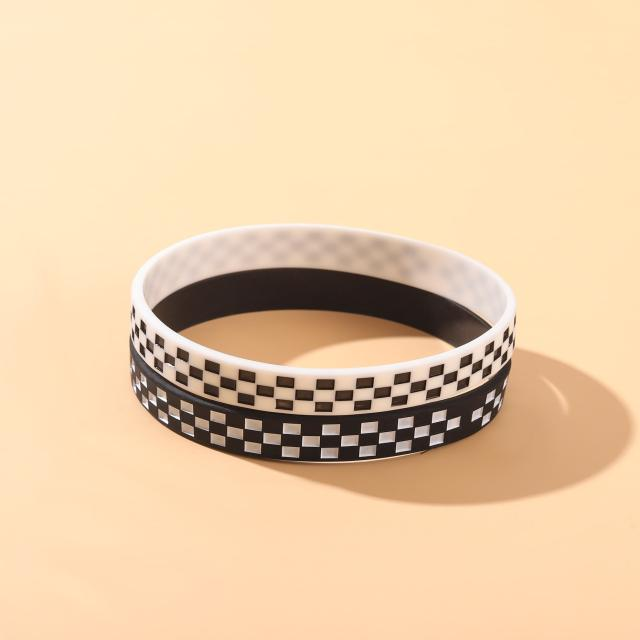bracelet: (89, 174, 640, 484)
